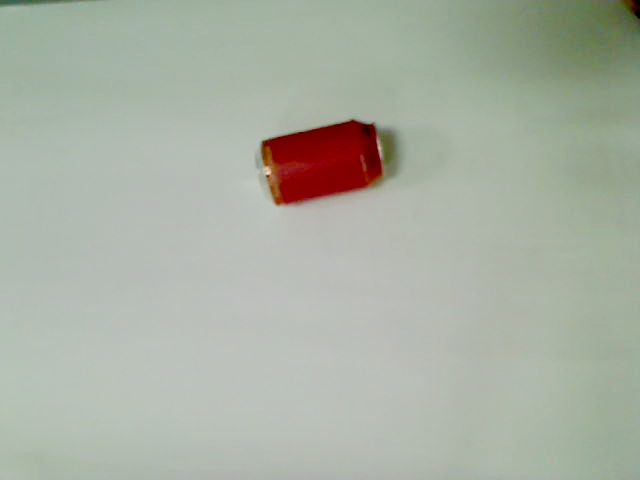can: (254, 117, 388, 205)
